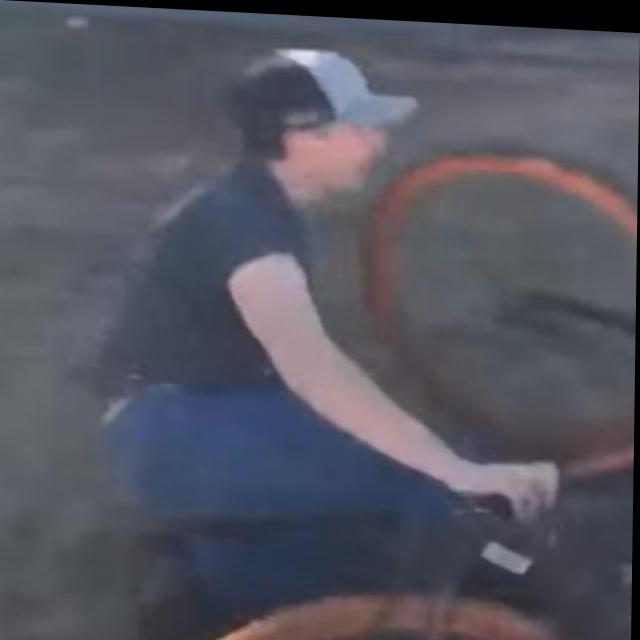fall: (104, 30, 556, 572)
